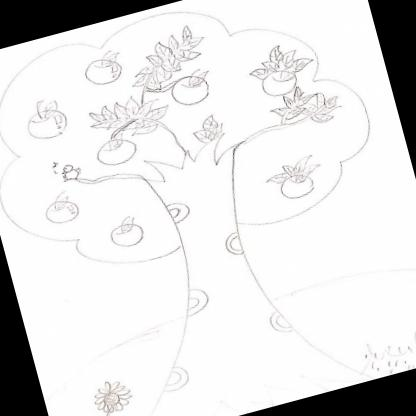apple: (242, 39, 309, 103), (262, 155, 326, 206), (20, 93, 71, 142), (90, 130, 142, 172), (77, 46, 126, 90), (38, 185, 84, 229), (169, 67, 215, 108), (103, 212, 148, 252)
branch_sharp: (137, 130, 250, 194)
crown_cloud: (0, 0, 389, 293)
knot: (180, 283, 215, 316), (264, 305, 298, 337), (160, 362, 190, 392), (164, 198, 193, 226), (221, 230, 247, 258)
trunk_straight: (148, 244, 302, 372)
